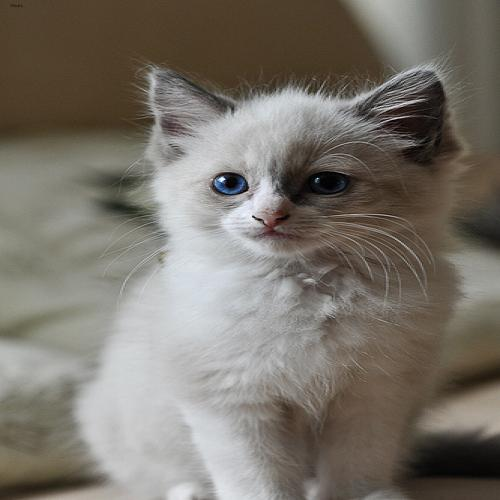ragdoll: (108, 53, 458, 275)
